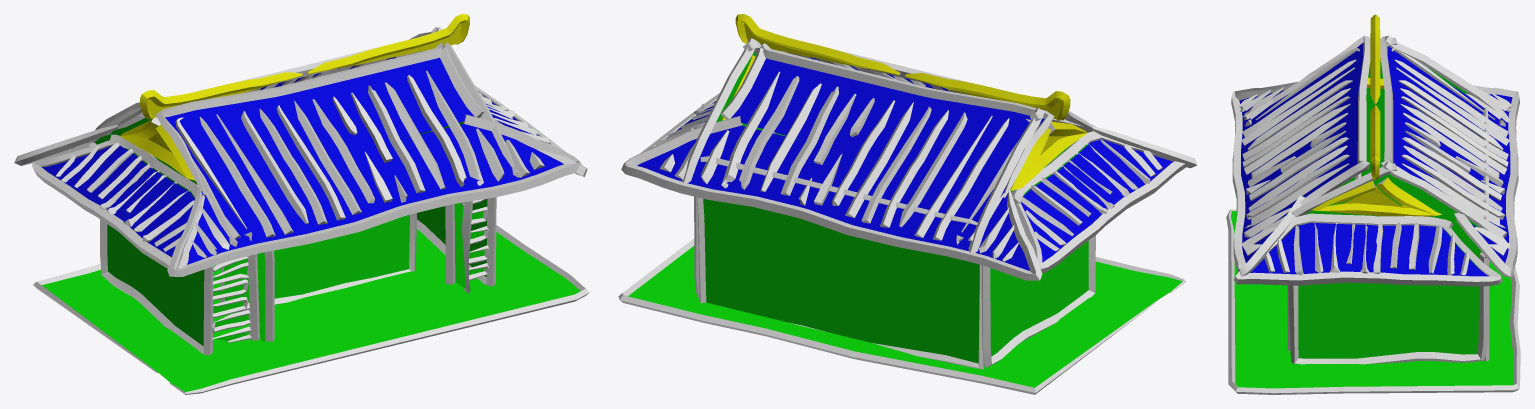
File: house3.fbx
The picture shows the model from 3 angles, left to right: view 1: azimuth 30°, elevation 25°; view 2: azimuth 150°, elevation 25°; view 3: azimuth 270°, elevation 25°; orthographic projection. The views are drawn at different scales.
Parts seen in each view (by area): view 1: GP_Layer.007; view 2: GP_Layer.007; view 3: GP_Layer.007.
Boxes of the visible parts, x1=… form: GP_Layer.007: x1=14, y1=14, x2=589, y2=394; GP_Layer.007: x1=618, y1=14, x2=1197, y2=394; GP_Layer.007: x1=1226, y1=14, x2=1520, y2=394.
Bounding box in the file's own units: 724 × 398 × 477.
